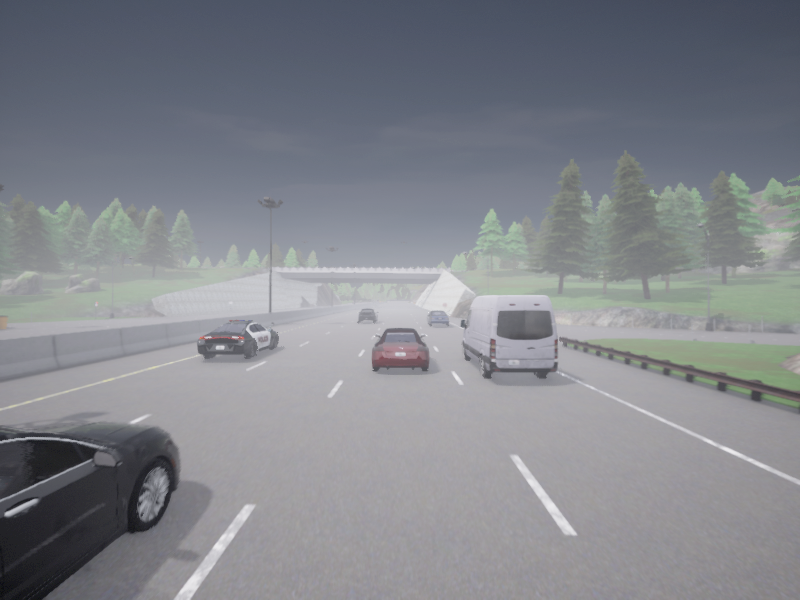vehicle: (0, 423, 179, 599), (460, 295, 557, 377), (197, 320, 277, 358), (372, 328, 428, 370), (426, 311, 448, 325), (358, 308, 378, 322)
